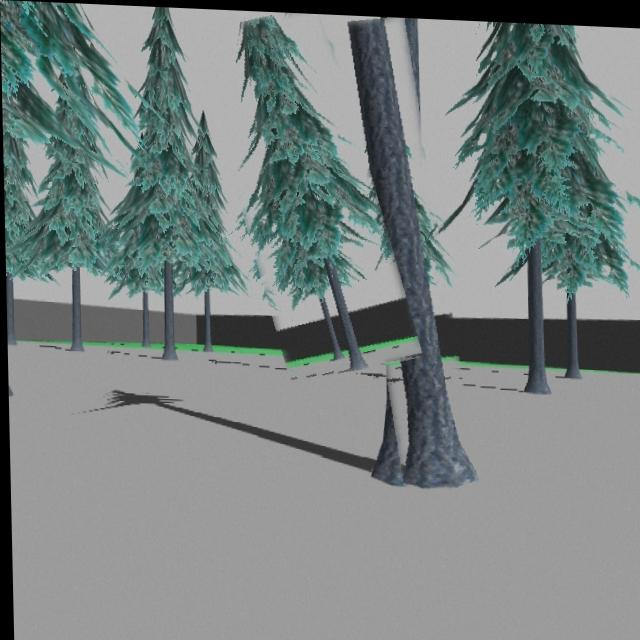tree: (346, 13, 477, 486), (244, 11, 380, 366)
